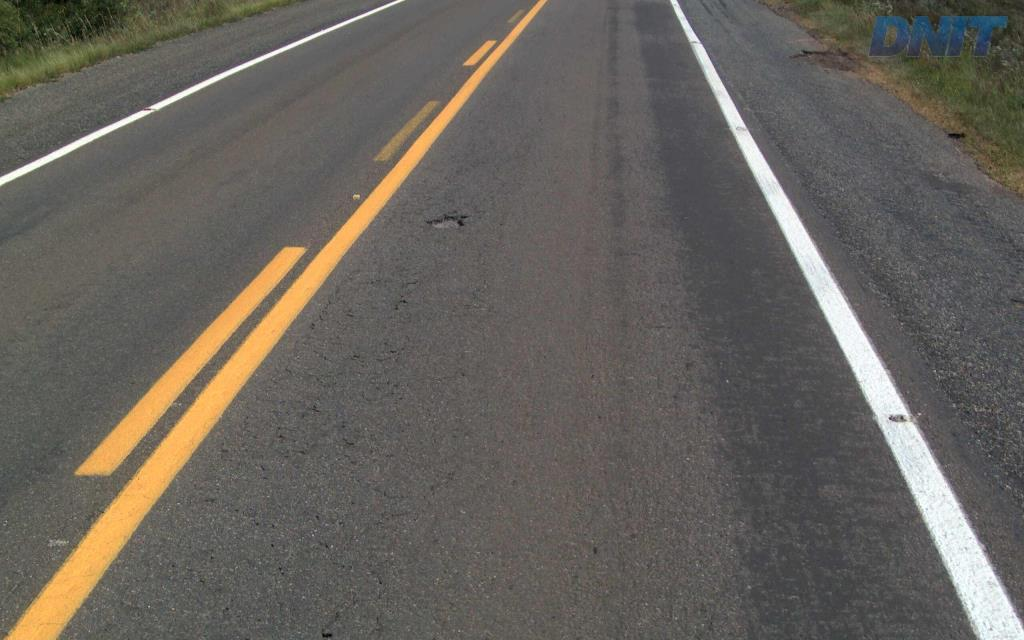pothole: (415, 211, 476, 233)
